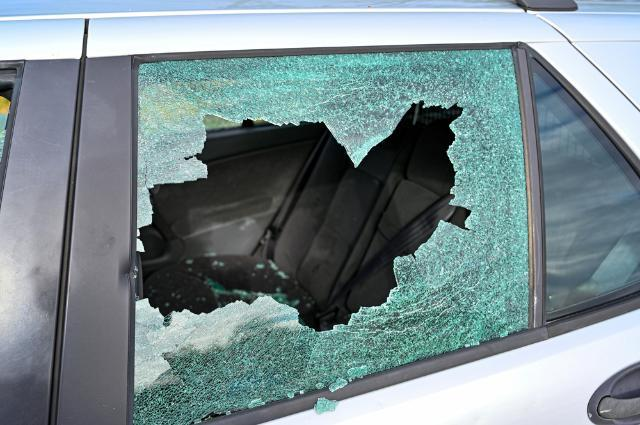glass shatter: (132, 48, 530, 425)
